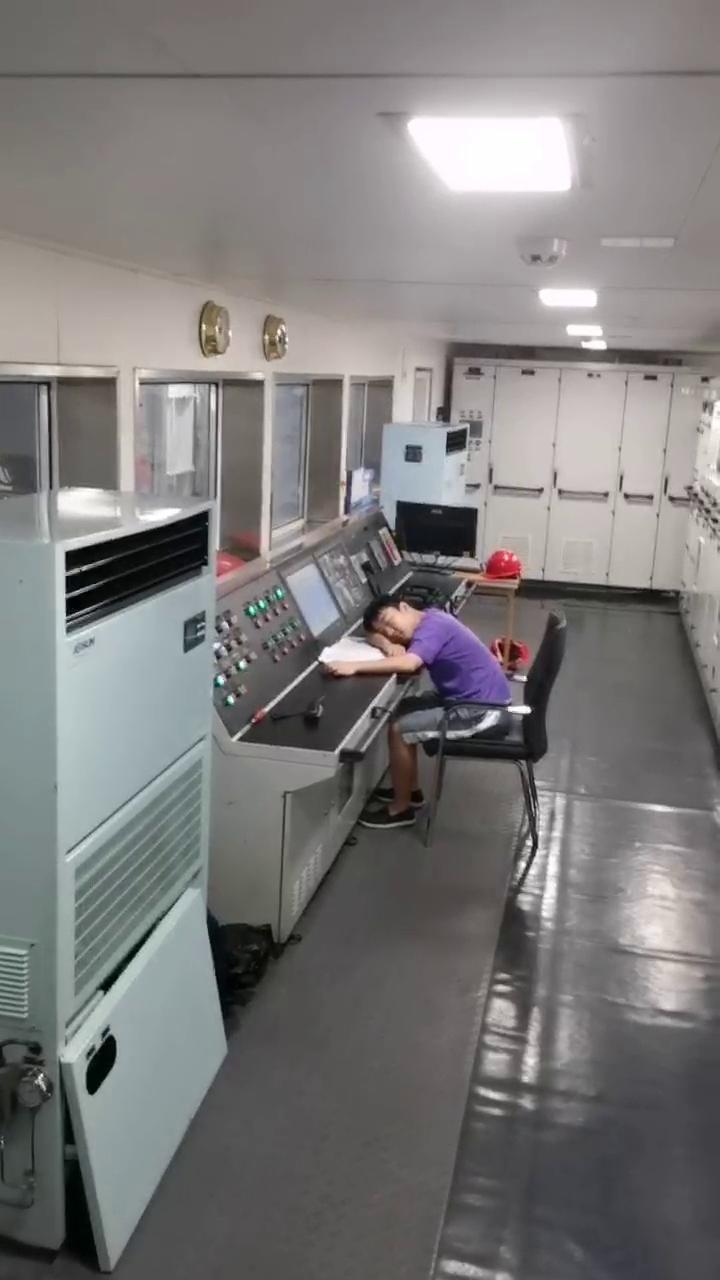sleep: (322, 593, 522, 720)
